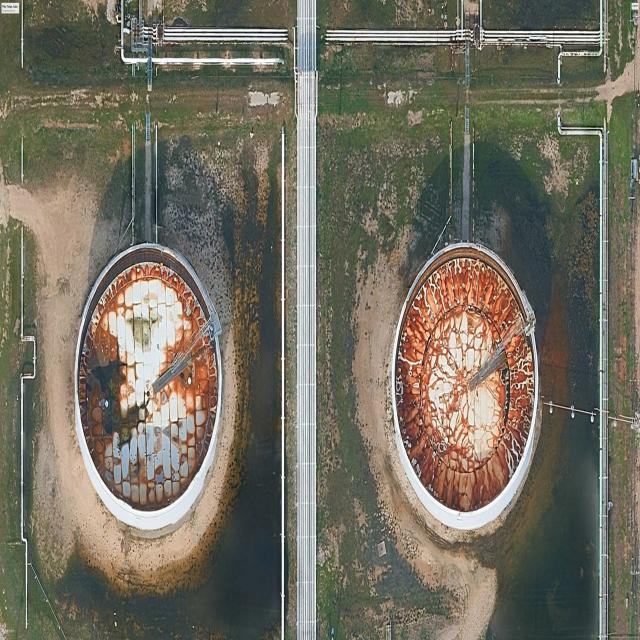Oil Rafinery: (74, 243, 222, 534), (391, 243, 538, 529)
